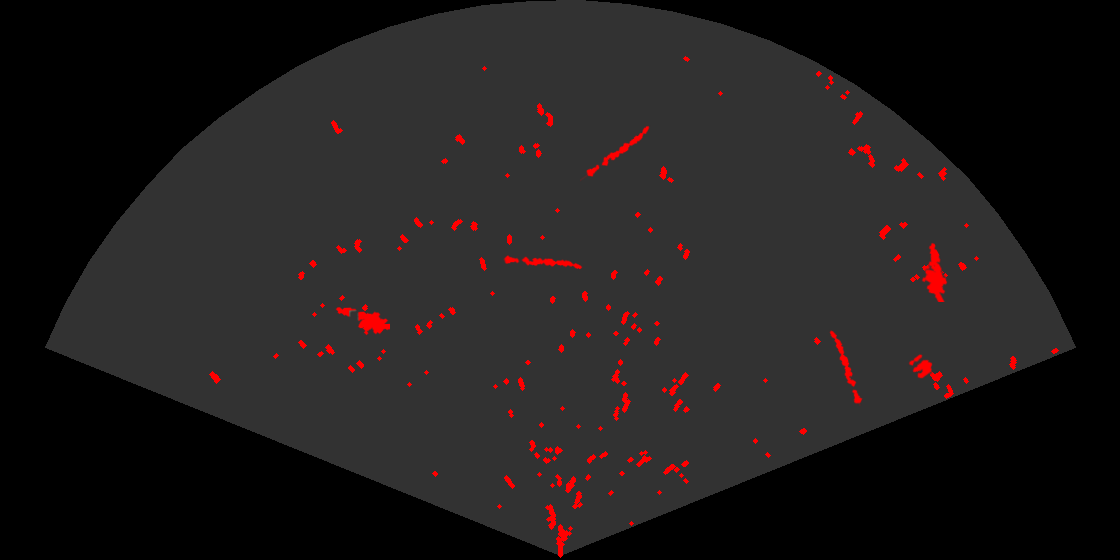ball: (907, 353, 934, 380)
chain: (580, 124, 651, 183), (828, 329, 864, 406), (503, 254, 584, 271)
frogman: (920, 241, 949, 302), (335, 306, 390, 337)
